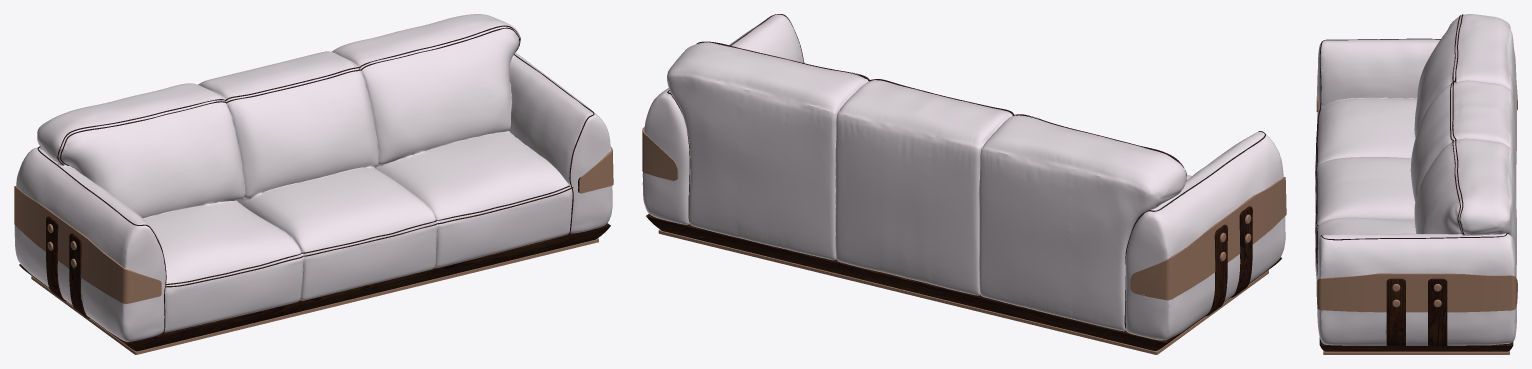
Rendered from St_Hilker_Dusseldorf_Sofa.glb.
3 views of the same model, side by side, from view 1: azimuth 30°, elevation 25°; view 2: azimuth 150°, elevation 25°; view 3: azimuth 270°, elevation 25° (orthographic). The views are drawn at different scales.
Visible parts, largest first — view 1: Dusseldorf_Sofa; view 2: Dusseldorf_Sofa; view 3: Dusseldorf_Sofa.
Boxes of the visible parts, x1=… form: Dusseldorf_Sofa: x1=14, y1=14, x2=613, y2=354; Dusseldorf_Sofa: x1=642, y1=14, x2=1286, y2=354; Dusseldorf_Sofa: x1=1315, y1=14, x2=1517, y2=354.
Size of the model in its own units: 2.79 by 0.8879 by 1.09.
Materials: 4 (1 with a texture image).
